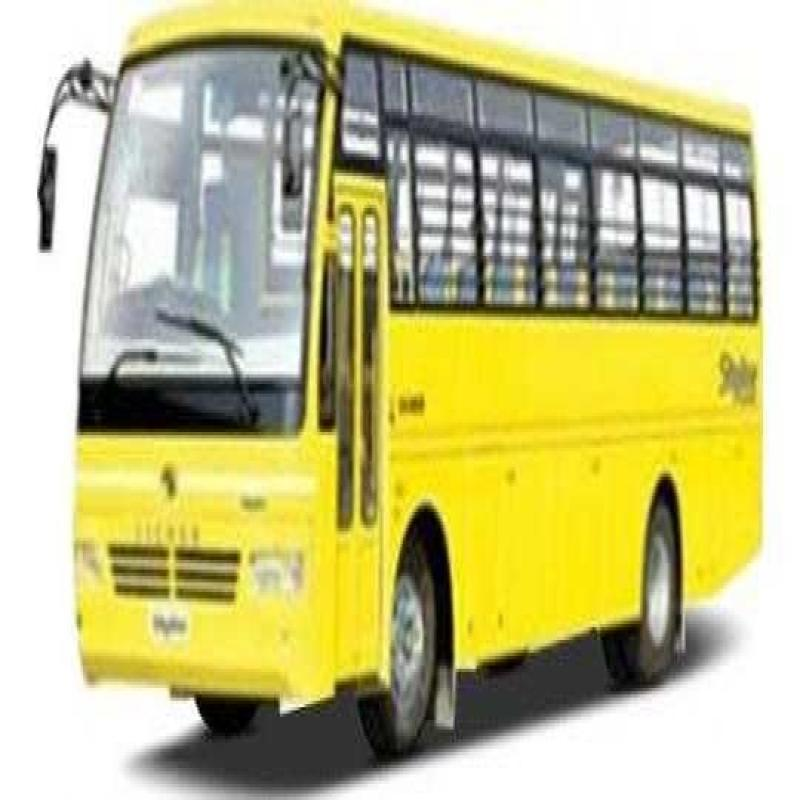bus: (37, 11, 760, 692)
